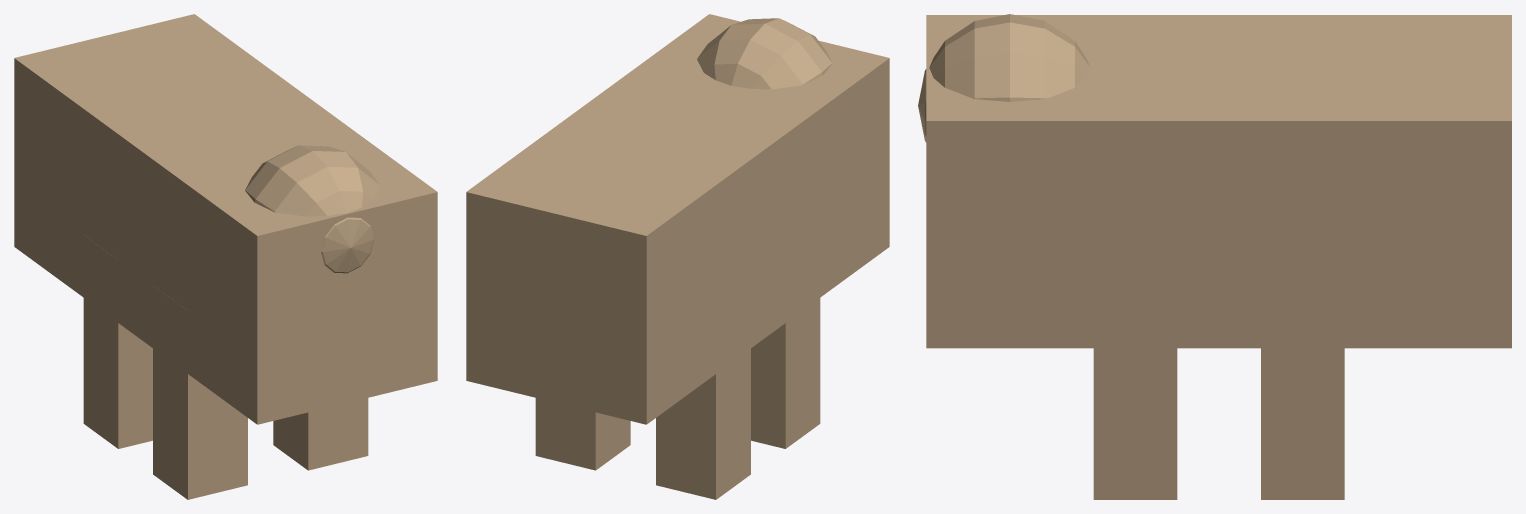
Rendered from dog_walk_pose.glb.
3 renders of one model, left to right at view 1: azimuth 30°, elevation 25°; view 2: azimuth 150°, elevation 25°; view 3: azimuth 270°, elevation 25°, orthographic. The views are drawn at different scales.
Visible parts, largest first — view 1: body, leg-11, leg-1-1, head, leg11; view 2: body, leg-1-1, leg-11, head, leg1-1; view 3: body, leg11, leg1-1, head.
Boxes of the visible parts, x1,y1,x2,y2 form: body: [14, 14, 437, 424]; leg-11: [153, 286, 247, 499]; leg-1-1: [83, 235, 152, 448]; head: [245, 145, 380, 273]; leg11: [273, 398, 368, 470]; body: [466, 14, 889, 424]; leg-1-1: [656, 286, 750, 499]; leg-11: [751, 235, 820, 448]; head: [697, 18, 832, 89]; leg1-1: [535, 398, 630, 470]; body: [926, 15, 1511, 348]; leg11: [1093, 272, 1177, 499]; leg1-1: [1261, 272, 1344, 499]; head: [918, 14, 1090, 142].
Bounding box in the file's own units: 0.3001 × 0.5599 × 0.71.
